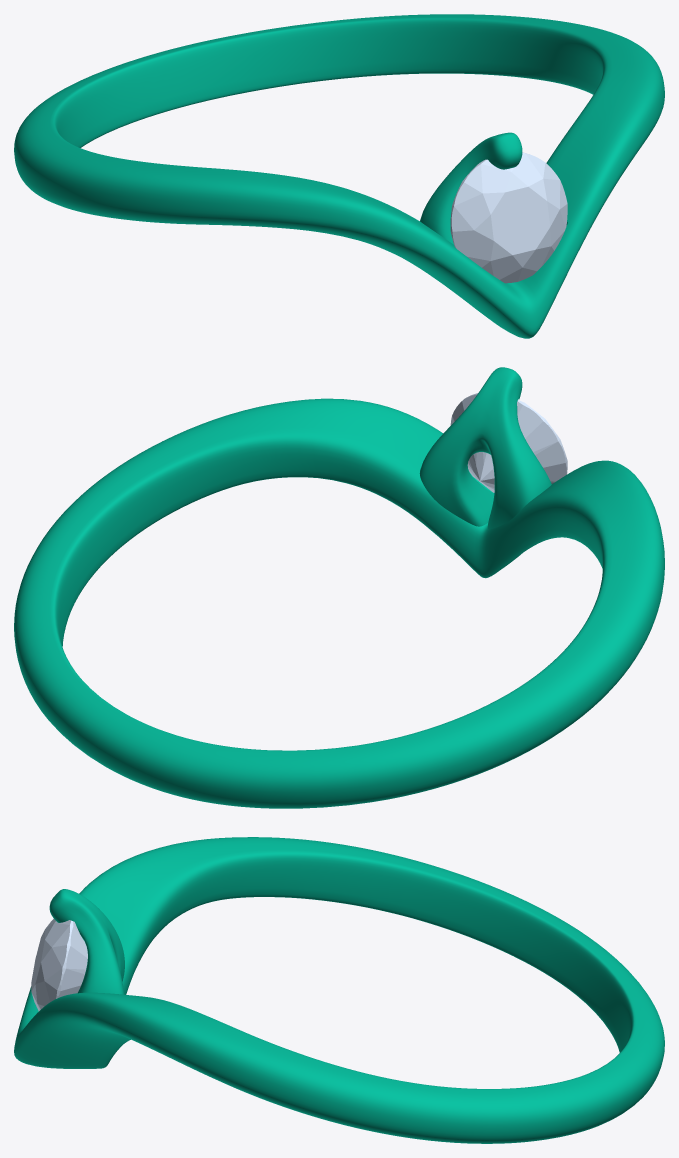
3 views of the same model, one above another, from view 1: azimuth 30°, elevation 25°; view 2: azimuth 150°, elevation 25°; view 3: azimuth 270°, elevation 25° (orthographic). The views are drawn at different scales.
Parts seen in each view (by area): view 1: for render_2.3dm, Diamond_Round; view 2: for render_2.3dm, Diamond_Round; view 3: for render_2.3dm, Diamond_Round.
Boxes of the visible parts, bbox=[...] form: for render_2.3dm: bbox=[14, 14, 664, 338]; Diamond_Round: bbox=[450, 152, 567, 283]; for render_2.3dm: bbox=[14, 367, 664, 808]; Diamond_Round: bbox=[450, 393, 567, 492]; for render_2.3dm: bbox=[14, 837, 664, 1143]; Diamond_Round: bbox=[31, 919, 87, 1011].
Bounding box in the file's own units: 2.63 × 0.8708 × 2.89.
